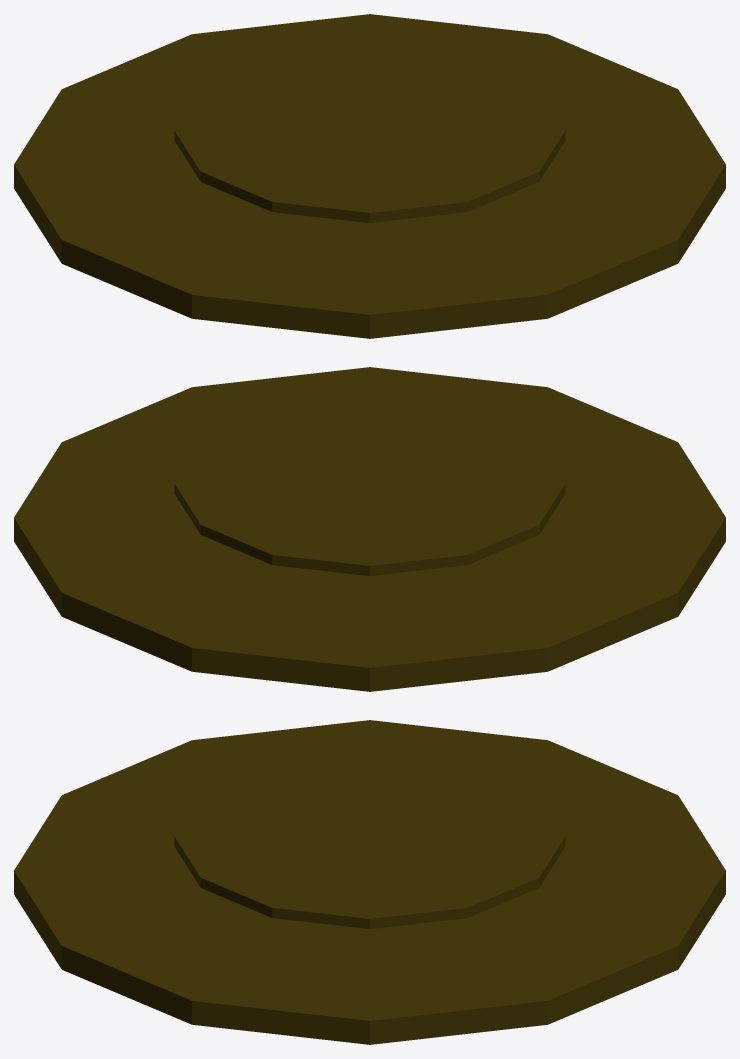
File: Bear_Trap.fbx
The picture shows the model from 3 angles, top to bottom: view 1: azimuth 30°, elevation 25°; view 2: azimuth 150°, elevation 25°; view 3: azimuth 270°, elevation 25°; orthographic projection.
Visible parts, largest first — view 1: Bear_Trap; view 2: Bear_Trap; view 3: Bear_Trap.
Boxes of the visible parts, x1=… form: Bear_Trap: x1=14, y1=14, x2=725, y2=338; Bear_Trap: x1=14, y1=367, x2=725, y2=691; Bear_Trap: x1=14, y1=720, x2=725, y2=1044.
Size of the model in its own units: 41.38 by 3.73 by 41.38.
